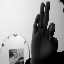f: (29, 1, 59, 57)
